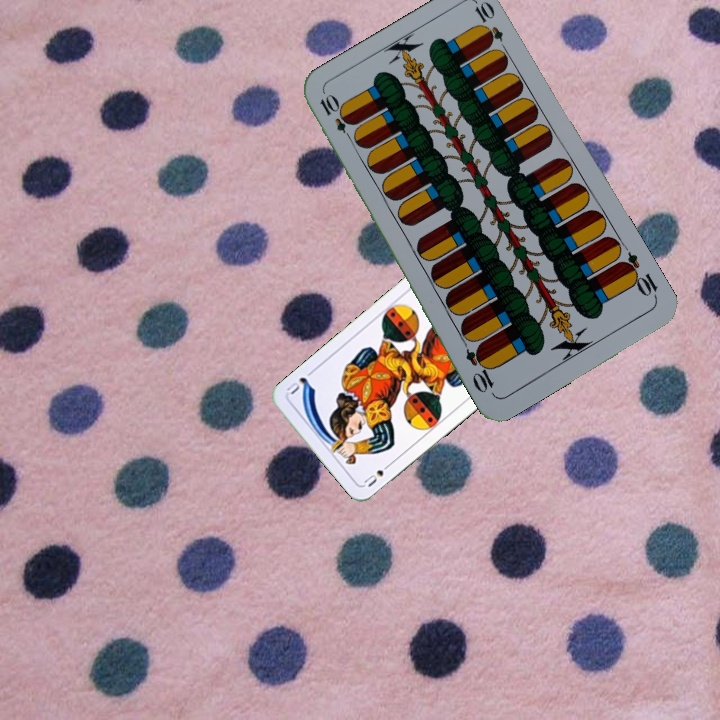E10: (615, 248, 660, 302), (315, 90, 358, 145)
SU: (360, 458, 394, 490)
